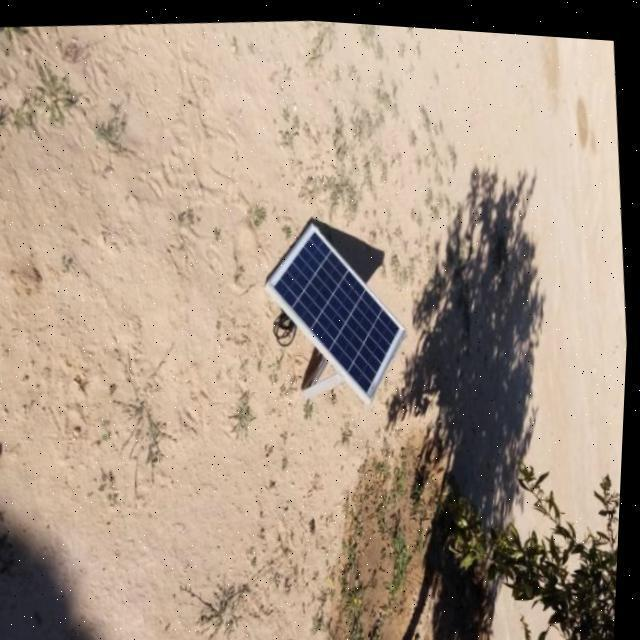Normal Solar Panel: (260, 210, 416, 406)
